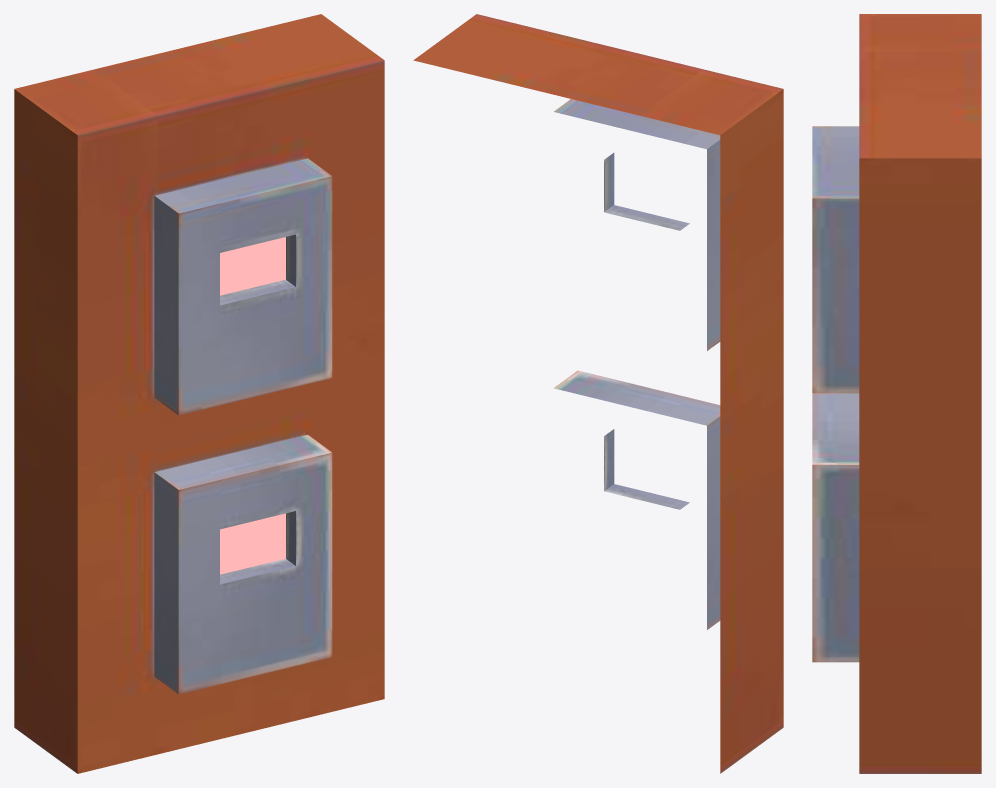
The model's file is Panel_Switch.glb.
3 renders of one model, left to right at view 1: azimuth 30°, elevation 25°; view 2: azimuth 150°, elevation 25°; view 3: azimuth 270°, elevation 25°, orthographic. The views are drawn at different scales.
Parts seen in each view (by area): view 1: Panel_Switch; view 2: Panel_Switch; view 3: Panel_Switch.
Part boxes in pixels (x1,y1,x2,y2): Panel_Switch: (14,14,384,773); Panel_Switch: (413,14,783,773); Panel_Switch: (812,14,981,773).
Bounding box in the file's own units: 0.1471 × 0.2923 × 0.0729.
2 materials, 1 textured.
